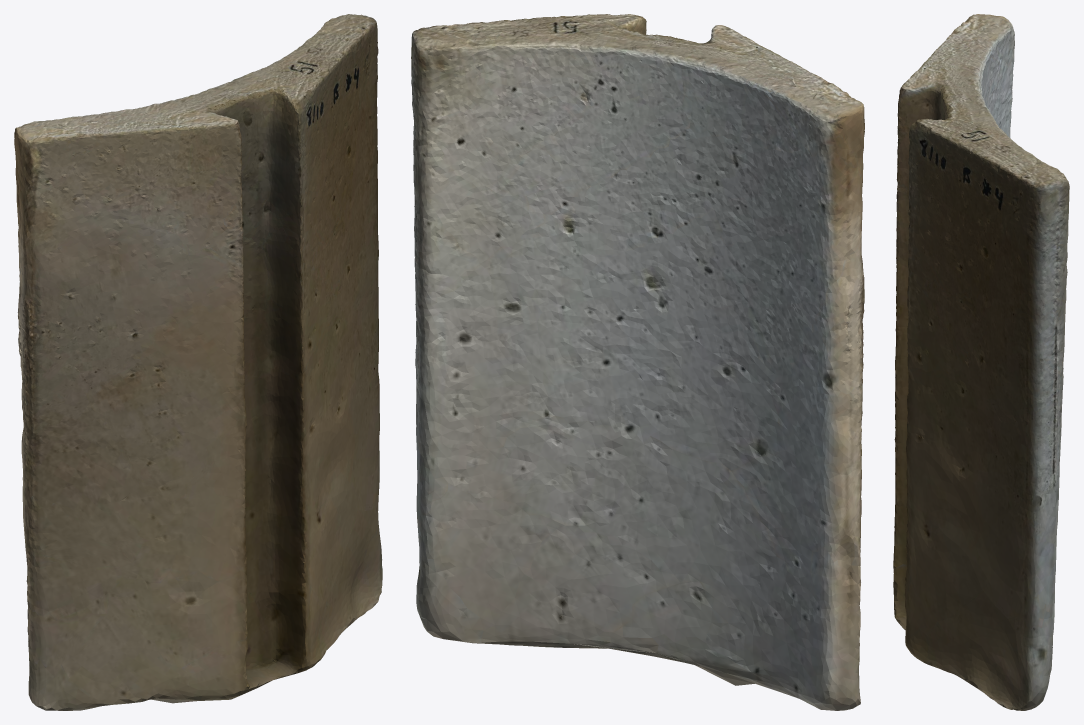
File: Pixel 51.glb
3 renders of one model, left to right at view 1: azimuth 30°, elevation 25°; view 2: azimuth 150°, elevation 25°; view 3: azimuth 270°, elevation 25°, orthographic. The views are drawn at different scales.
Bounding box in the file's own units: 0.1781 × 0.2589 × 0.0752.
1 material, 1 textured.
